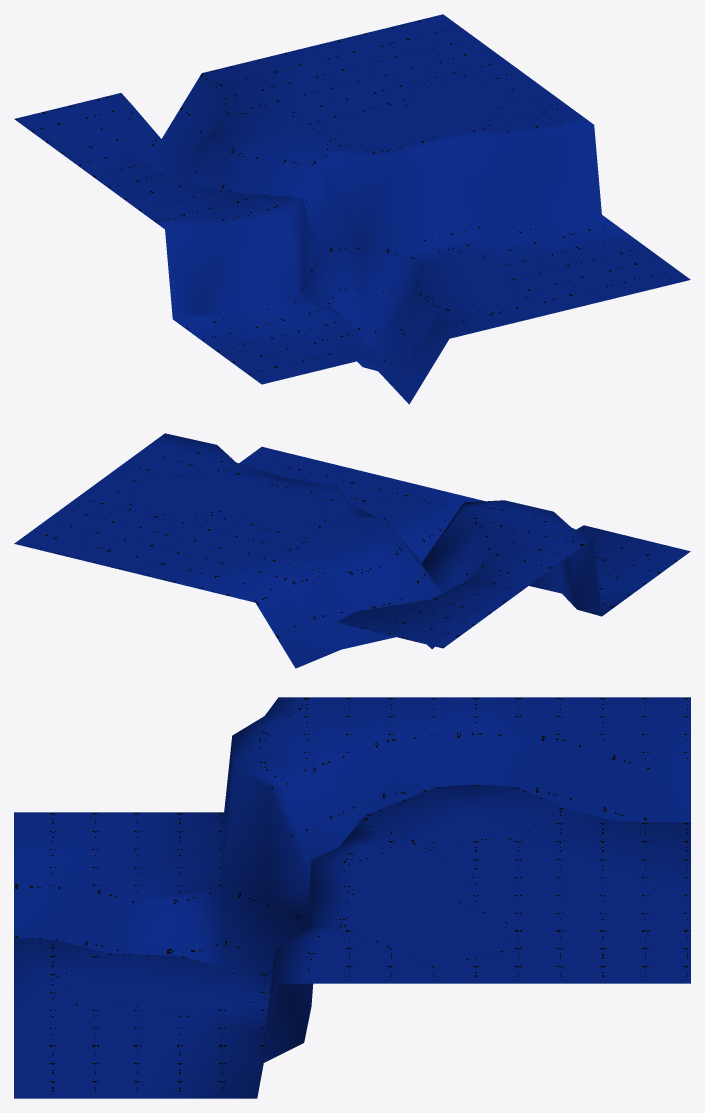
The model's file is GRD_S_C1_R2_3.fbx.
3 renders of one model, top to bottom at view 1: azimuth 30°, elevation 25°; view 2: azimuth 150°, elevation 25°; view 3: azimuth 270°, elevation 25°, orthographic. The views are drawn at different scales.
Parts seen in each view (by area): view 1: material_00012000, material_00032000, material_C0042000, material_C0022000; view 2: material_00012000, material_C0042000, material_C0022000, material_00032000; view 3: material_00012000, material_C0042000, material_C0022000, material_00032000.
Boxes of the visible parts, x1,y1,x2,y2 form: material_00012000: (14,14,690,384); material_00032000: (154,116,601,319); material_C0042000: (121,73,449,404); material_C0022000: (212,75,528,313); material_00012000: (14,442,690,648); material_C0042000: (255,503,492,668); material_C0022000: (129,471,444,574); material_00032000: (153,433,601,616); material_00012000: (14,697,690,1098); material_C0042000: (14,731,690,971); material_C0022000: (54,784,564,1016); material_00032000: (220,697,387,1095).
Size of the model in its own units: 12800 by 4800 by 12800.
